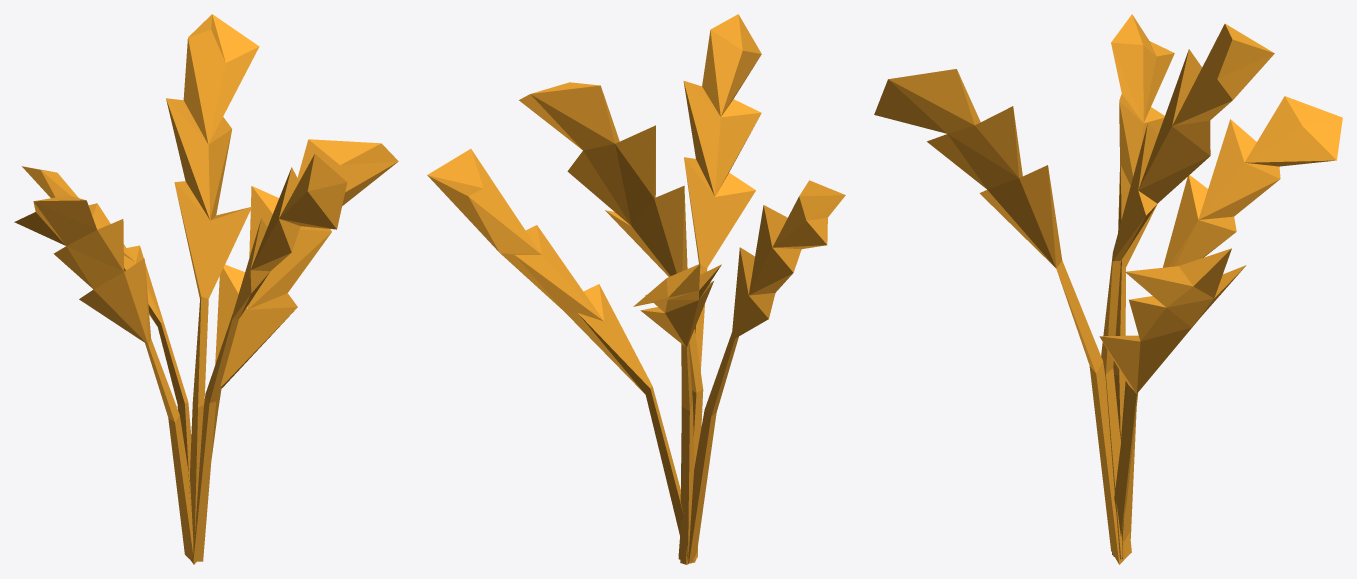
The model's file is SM_Carrot_Plant_Young.fbx.
3 views of the same model, side by side, from view 1: azimuth 30°, elevation 25°; view 2: azimuth 150°, elevation 25°; view 3: azimuth 270°, elevation 25° (orthographic). The views are drawn at different scales.
Visible parts, largest first — view 1: carrot-plant-young; view 2: carrot-plant-young; view 3: carrot-plant-young.
Part boxes in pixels (x1,y1,x2,y2): carrot-plant-young: (14,14,398,564); carrot-plant-young: (427,14,845,564); carrot-plant-young: (874,14,1342,564).
Bounding box in the file's own units: 0.2626 × 0.323 × 0.2456.
